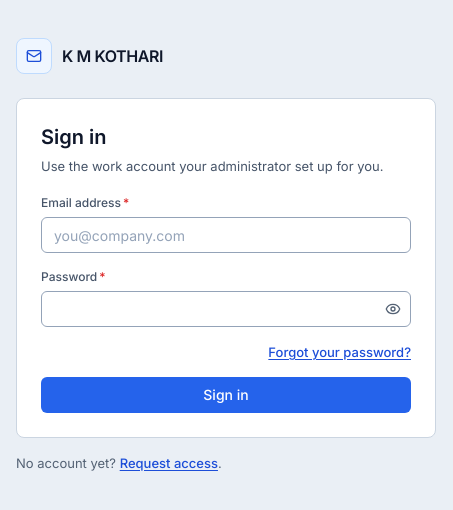
Login › validates locally before sending anything
What coordinates should you click on to do the following:
click the button "Sign in"
I would click on:
 (226, 395)
Its box is x1=41 y1=377 x2=411 y2=413.
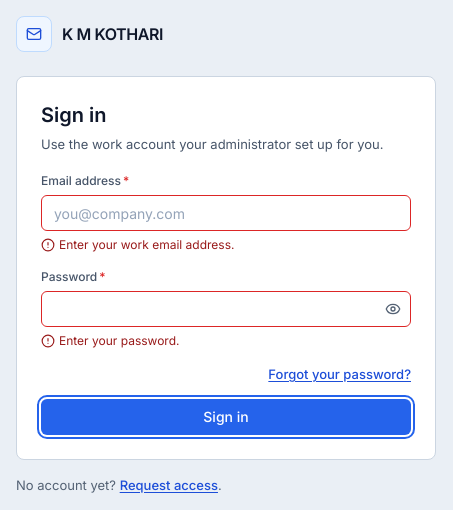
Expected: the text "Enter your work email address." is shown, x1=59 y1=237 x2=234 y2=253
Expected: the text "Enter your password." is shown, x1=59 y1=333 x2=180 y2=349
